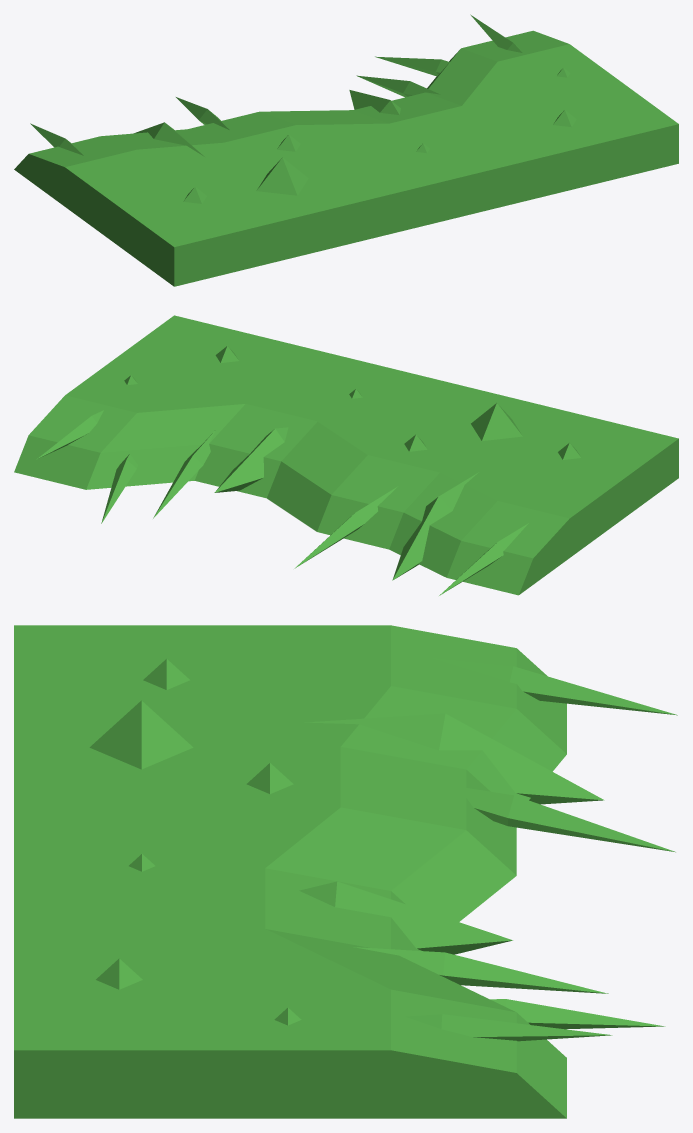
File: Floor-Outdoor-4x2x1-Grass-Edge-Ragged-Concave.FBX
The picture shows the model from 3 angles, top to bottom: view 1: azimuth 30°, elevation 25°; view 2: azimuth 150°, elevation 25°; view 3: azimuth 270°, elevation 25°; orthographic projection. The views are drawn at different scales.
Parts seen in each view (by area): view 1: Floor-Outdoor-4x2x1-Grass-Edge-Ragged-Concave; view 2: Floor-Outdoor-4x2x1-Grass-Edge-Ragged-Concave; view 3: Floor-Outdoor-4x2x1-Grass-Edge-Ragged-Concave.
Part boxes in pixels (box(x1,y1,x2,y2)): Floor-Outdoor-4x2x1-Grass-Edge-Ragged-Concave: box(14, 14, 678, 286); Floor-Outdoor-4x2x1-Grass-Edge-Ragged-Concave: box(14, 315, 678, 595); Floor-Outdoor-4x2x1-Grass-Edge-Ragged-Concave: box(14, 625, 677, 1118).
Bounding box in the file's own units: 40 × 6.31 × 26.45.
